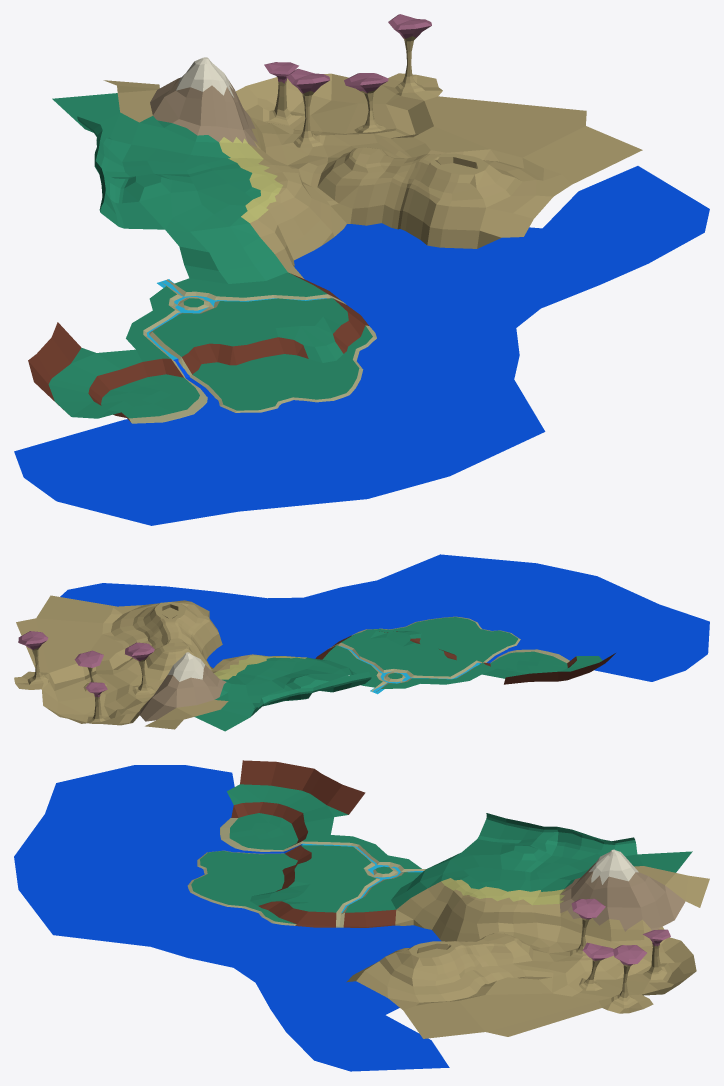
The model's file is map.fbx.
The picture shows the model from 3 angles, top to bottom: view 1: azimuth 30°, elevation 25°; view 2: azimuth 150°, elevation 25°; view 3: azimuth 270°, elevation 25°; orthographic projection. The views are drawn at different scales.
Visible parts, largest first — view 1: Plane.014, Plane.001; view 2: Plane.014, Plane.001, Plane.002; view 3: Plane.014, Plane.001.
Boxes of the visible parts, <box> form: Plane.014: <box>28,14,642,423</box>; Plane.001: <box>14,166,709,525</box>; Plane.014: <box>14,595,615,731</box>; Plane.001: <box>60,554,709,681</box>; Plane.002: <box>340,646,480,694</box>; Plane.014: <box>187,760,709,1038</box>; Plane.001: <box>14,765,449,1071</box>.
Bounding box in the file's own units: 96150 × 15865 × 92279.
